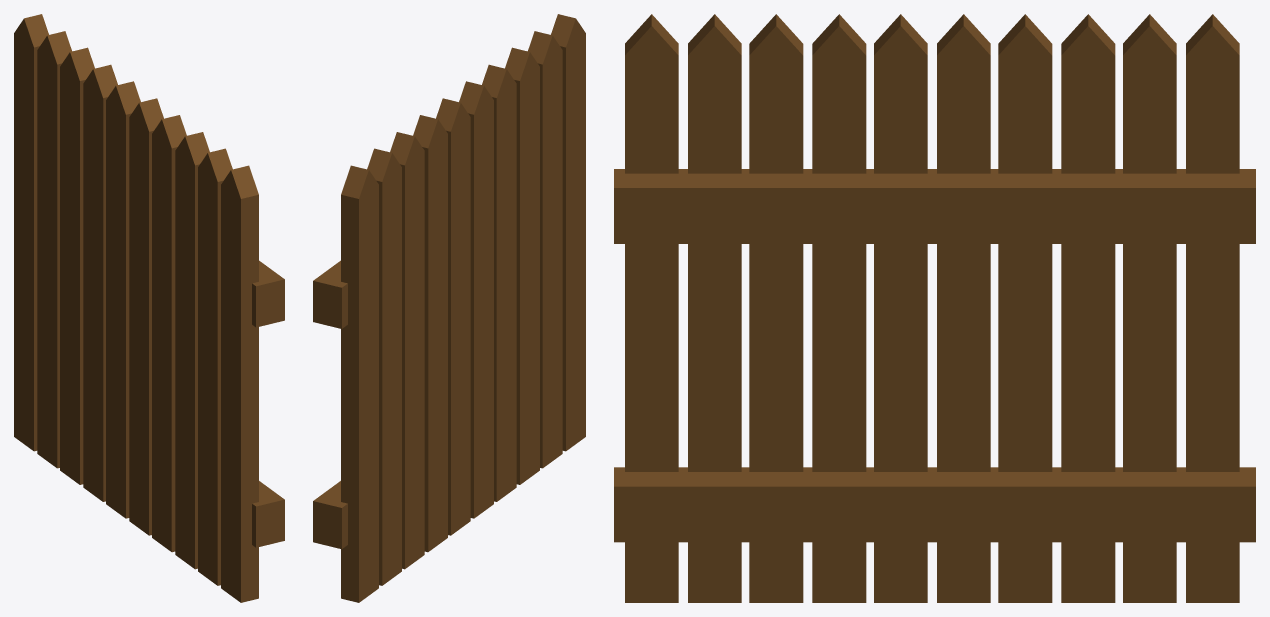
The model's file is Fence 13.fbx.
3 renders of one model, left to right at view 1: azimuth 30°, elevation 25°; view 2: azimuth 150°, elevation 25°; view 3: azimuth 270°, elevation 25°, orthographic. The views are drawn at different scales.
Visible parts, largest first — view 1: Fence_13; view 2: Fence_13; view 3: Fence_13.
Boxes of the visible parts, x1=… form: Fence_13: x1=14, y1=14, x2=284, y2=602; Fence_13: x1=313, y1=14, x2=585, y2=602; Fence_13: x1=614, y1=14, x2=1255, y2=602.
Size of the model in its own units: 16.01 by 163 by 165.
1 material, 1 textured.
